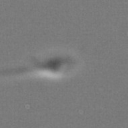normal: (1, 64, 35, 87)
